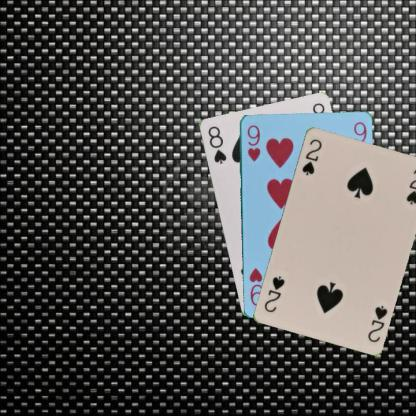2s: (299, 136, 323, 177), (365, 302, 388, 343)
8s: (205, 123, 228, 165)
9h: (244, 122, 262, 163)
